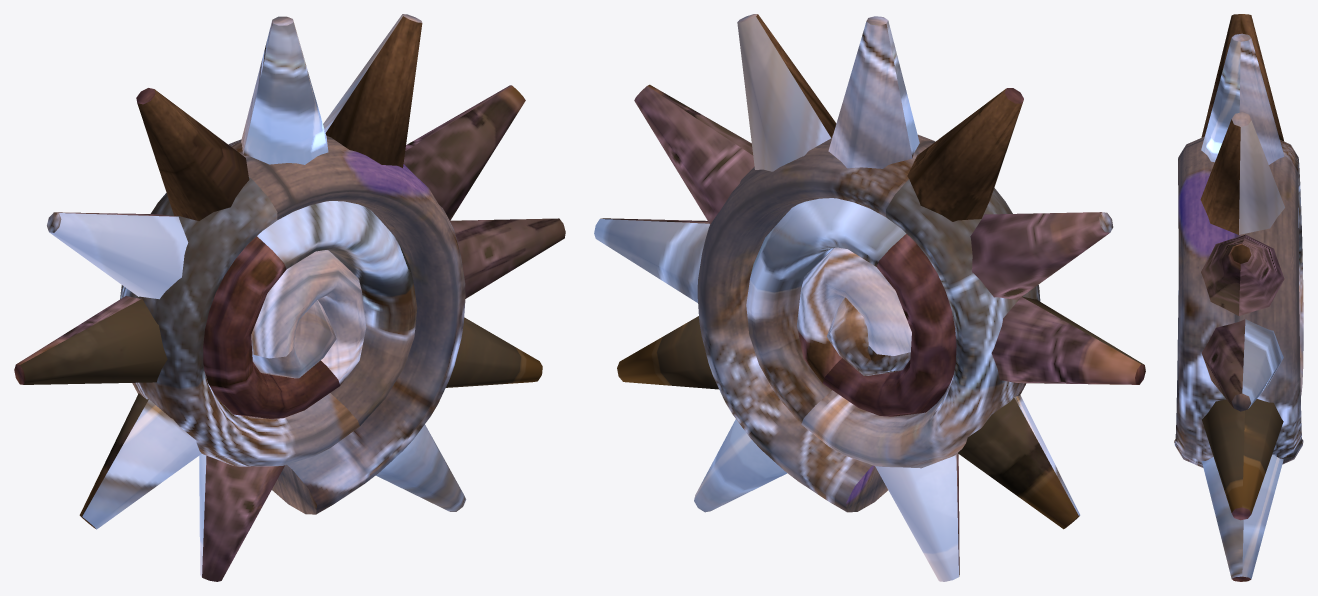
Rendered from spike4.fbx.
The picture shows the model from 3 angles, left to right: view 1: azimuth 30°, elevation 25°; view 2: azimuth 150°, elevation 25°; view 3: azimuth 270°, elevation 25°; orthographic projection. The views are drawn at different scales.
Parts seen in each view (by area): view 1: untitled.003; view 2: untitled.003; view 3: untitled.003.
Part boxes in pixels (bbox=[...]): untitled.003: bbox=[14, 14, 565, 581]; untitled.003: bbox=[594, 14, 1145, 581]; untitled.003: bbox=[1174, 14, 1303, 581].
Size of the model in its own units: 211 by 202 by 49.24.
